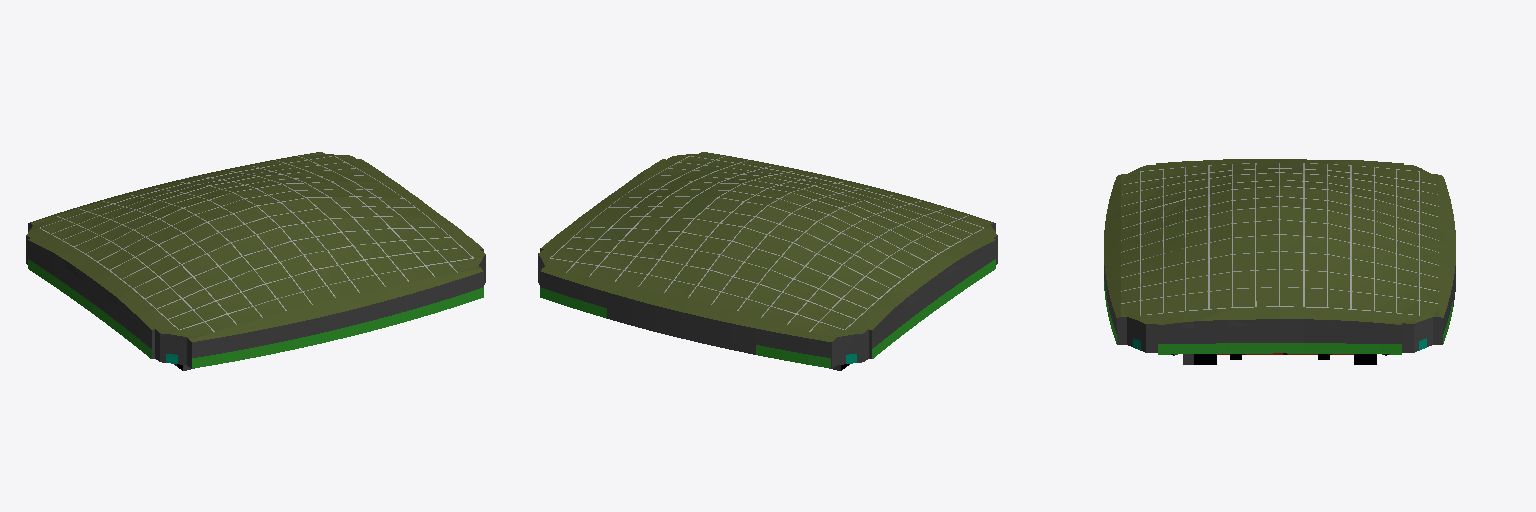
The model's file is Tarnow-Jaksolka-3dmodel_fixed3.obj.
The picture shows the model from 3 angles: view 1: azimuth 30°, elevation 25°; view 2: azimuth 150°, elevation 25°; view 3: azimuth 270°, elevation 25°; orthographic projection.
Visible parts, largest first — view 1: model_CUEASE-$à___50__curve_; view 2: model_CUEASE-$à___50__curve_; view 3: model_CUEASE-$à___50__curve_.
Part boxes in pixels (bbox=[...]): model_CUEASE-$à___50__curve_: bbox=[26, 152, 485, 370]; model_CUEASE-$à___50__curve_: bbox=[538, 152, 997, 370]; model_CUEASE-$à___50__curve_: bbox=[1104, 159, 1455, 364].
Size of the model in its own units: 80.69 by 23.28 by 74.12.